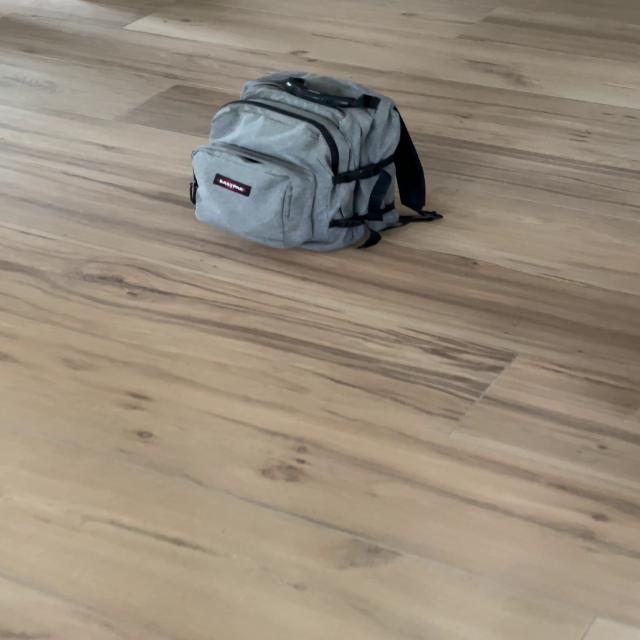backpack: (177, 64, 439, 257)
